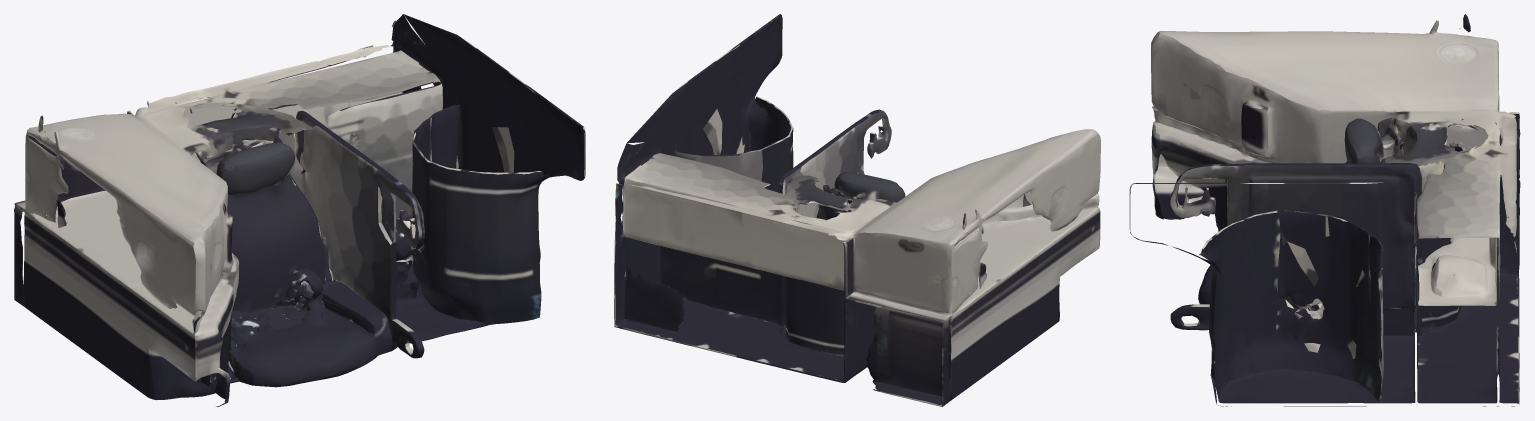
File: textured_meshV10.glb
3 renders of one model, left to right at view 1: azimuth 30°, elevation 25°; view 2: azimuth 150°, elevation 25°; view 3: azimuth 270°, elevation 25°, orthographic. The views are drawn at different scales.
Visible parts, largest first — view 1: tmp1mks9gyo.ply.124, tmp1mks9gyo.ply.517, tmp1mks9gyo.ply.718, tmp1mks9gyo.ply.027, tmp1mks9gyo.ply.009, tmp1mks9gyo.ply.282, tmp1mks9gyo.ply.771, tmp1mks9gyo.ply.239, tmp1mks9gyo.ply.006, tmp1mks9gyo.ply.765, tmp1mks9gyo.ply.141, tmp1mks9gyo.ply.046 (+22 smaller); view 2: tmp1mks9gyo.ply.124, tmp1mks9gyo.ply.718, tmp1mks9gyo.ply.736, tmp1mks9gyo.ply.517, tmp1mks9gyo.ply.282, tmp1mks9gyo.ply.018, tmp1mks9gyo.ply.008, tmp1mks9gyo.ply.010, tmp1mks9gyo.ply.015, tmp1mks9gyo.ply.006, tmp1mks9gyo.ply.024, tmp1mks9gyo.ply.009 (+15 smaller); view 3: tmp1mks9gyo.ply.124, tmp1mks9gyo.ply.012, tmp1mks9gyo.ply.791, tmp1mks9gyo.ply.025, tmp1mks9gyo.ply.008, tmp1mks9gyo.ply.633, tmp1mks9gyo.ply.046, tmp1mks9gyo.ply.011, tmp1mks9gyo.ply.320, tmp1mks9gyo.ply.428, tmp1mks9gyo.ply.039, tmp1mks9gyo.ply.029 (+9 smaller).
Part boxes in pixels (x1,y1,x2,y2): tmp1mks9gyo.ply.124: [27, 45, 439, 246]; tmp1mks9gyo.ply.517: [14, 204, 195, 399]; tmp1mks9gyo.ply.718: [390, 14, 584, 180]; tmp1mks9gyo.ply.027: [445, 169, 551, 326]; tmp1mks9gyo.ply.009: [279, 125, 418, 358]; tmp1mks9gyo.ply.282: [25, 130, 195, 314]; tmp1mks9gyo.ply.771: [227, 175, 325, 313]; tmp1mks9gyo.ply.239: [327, 83, 442, 228]; tmp1mks9gyo.ply.006: [31, 191, 194, 333]; tmp1mks9gyo.ply.765: [231, 299, 374, 369]; tmp1mks9gyo.ply.141: [412, 143, 460, 317]; tmp1mks9gyo.ply.046: [193, 199, 226, 332]; tmp1mks9gyo.ply.124: [625, 129, 1095, 244]; tmp1mks9gyo.ply.718: [614, 15, 782, 325]; tmp1mks9gyo.ply.736: [622, 177, 846, 290]; tmp1mks9gyo.ply.517: [942, 207, 1100, 406]; tmp1mks9gyo.ply.282: [951, 131, 1100, 313]; tmp1mks9gyo.ply.018: [853, 232, 952, 315]; tmp1mks9gyo.ply.008: [617, 299, 844, 380]; tmp1mks9gyo.ply.010: [659, 246, 778, 323]; tmp1mks9gyo.ply.015: [866, 307, 951, 396]; tmp1mks9gyo.ply.006: [954, 208, 1097, 310]; tmp1mks9gyo.ply.024: [787, 277, 844, 356]; tmp1mks9gyo.ply.009: [796, 110, 891, 217]; tmp1mks9gyo.ply.124: [1158, 31, 1519, 239]; tmp1mks9gyo.ply.012: [1170, 165, 1422, 336]; tmp1mks9gyo.ply.791: [1267, 210, 1381, 402]; tmp1mks9gyo.ply.025: [1201, 212, 1280, 400]; tmp1mks9gyo.ply.008: [1414, 273, 1518, 403]; tmp1mks9gyo.ply.633: [1251, 84, 1519, 275]; tmp1mks9gyo.ply.046: [1151, 31, 1267, 159]; tmp1mks9gyo.ply.011: [1218, 335, 1415, 403]; tmp1mks9gyo.ply.320: [1418, 237, 1496, 305]; tmp1mks9gyo.ply.428: [1160, 143, 1238, 229]; tmp1mks9gyo.ply.039: [1153, 121, 1269, 163]; tmp1mks9gyo.ply.029: [1415, 161, 1457, 331].
Bounding box in the file's own units: 1.99 × 1.12 × 1.76.
1 material, 1 textured.
